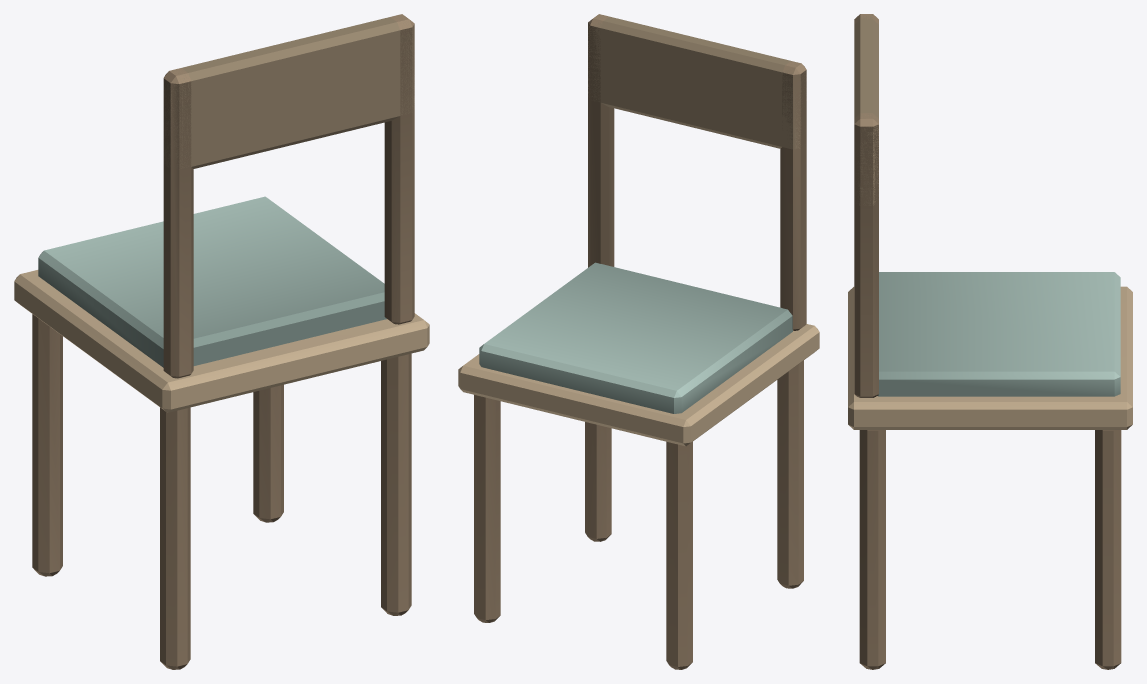
File: furn_dining_chair__oak.glb
3 views of the same model, side by side, from view 1: azimuth 30°, elevation 25°; view 2: azimuth 150°, elevation 25°; view 3: azimuth 270°, elevation 25° (orthographic). The views are drawn at different scales.
Size of the model in its own units: 0.46 by 0.98 by 0.46.
